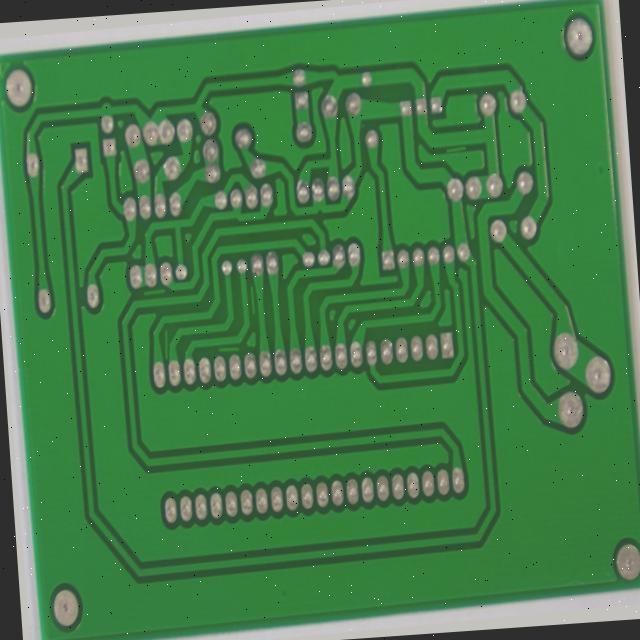spurious_copper: (138, 274, 166, 296), (212, 334, 240, 354), (244, 276, 257, 318), (445, 138, 471, 157), (157, 322, 170, 355)
